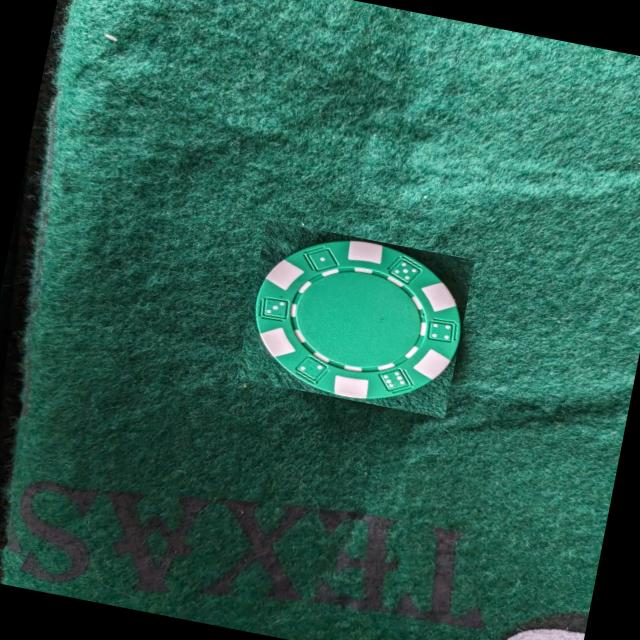green chip: (248, 239, 460, 403)
